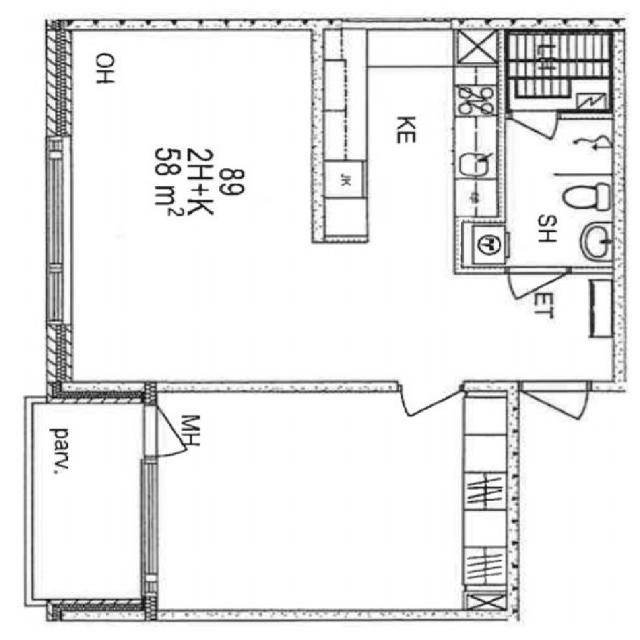door: (522, 380, 588, 448), (400, 380, 463, 444), (145, 404, 218, 456), (509, 266, 568, 326), (512, 112, 558, 159)
